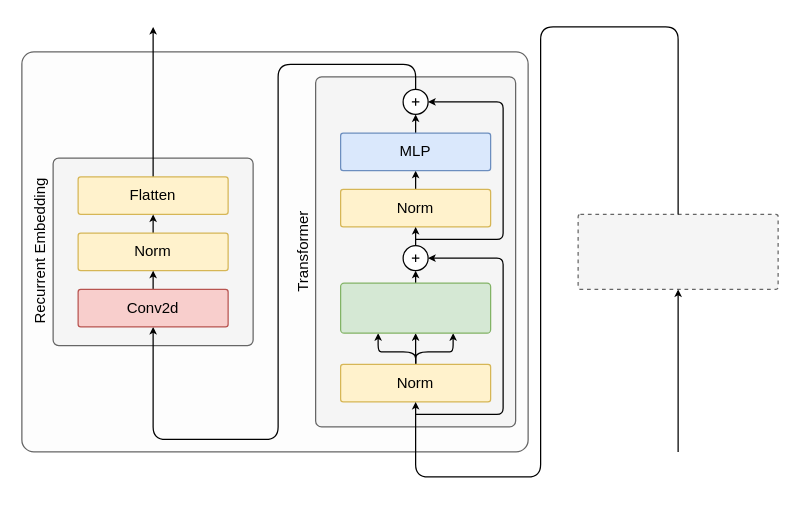
This 800x505 diagram has some shape labels left out. Here are the shapes that lost their labels. From the top down, the box of each, then its label:
(21, 51, 528, 452): L×
(577, 213, 778, 289): Embedding
(339, 282, 491, 333): Multi-Head Attention
